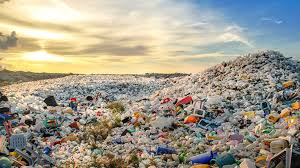garbage: (2, 88, 300, 167), (75, 74, 299, 168), (236, 57, 300, 165)
